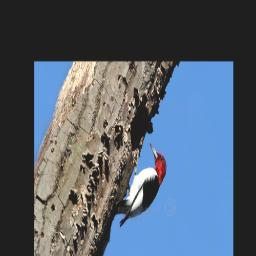Woodpecker: (107, 138, 173, 233)
